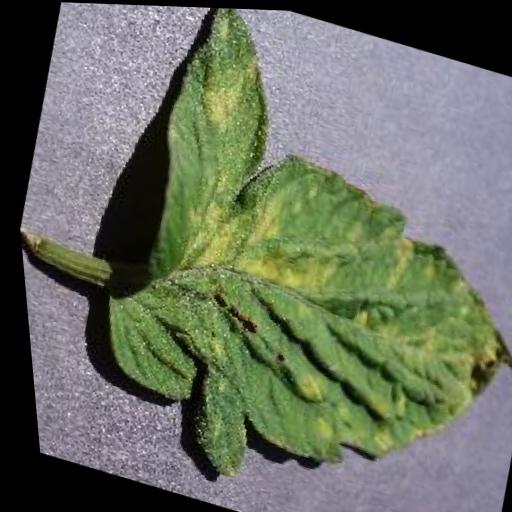Leaf Mold: (47, 1, 512, 512)
